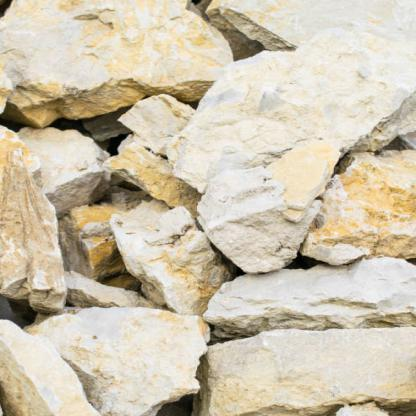Sedimentary_Limestone: (66, 296, 209, 397), (252, 59, 342, 219), (31, 9, 191, 99)
